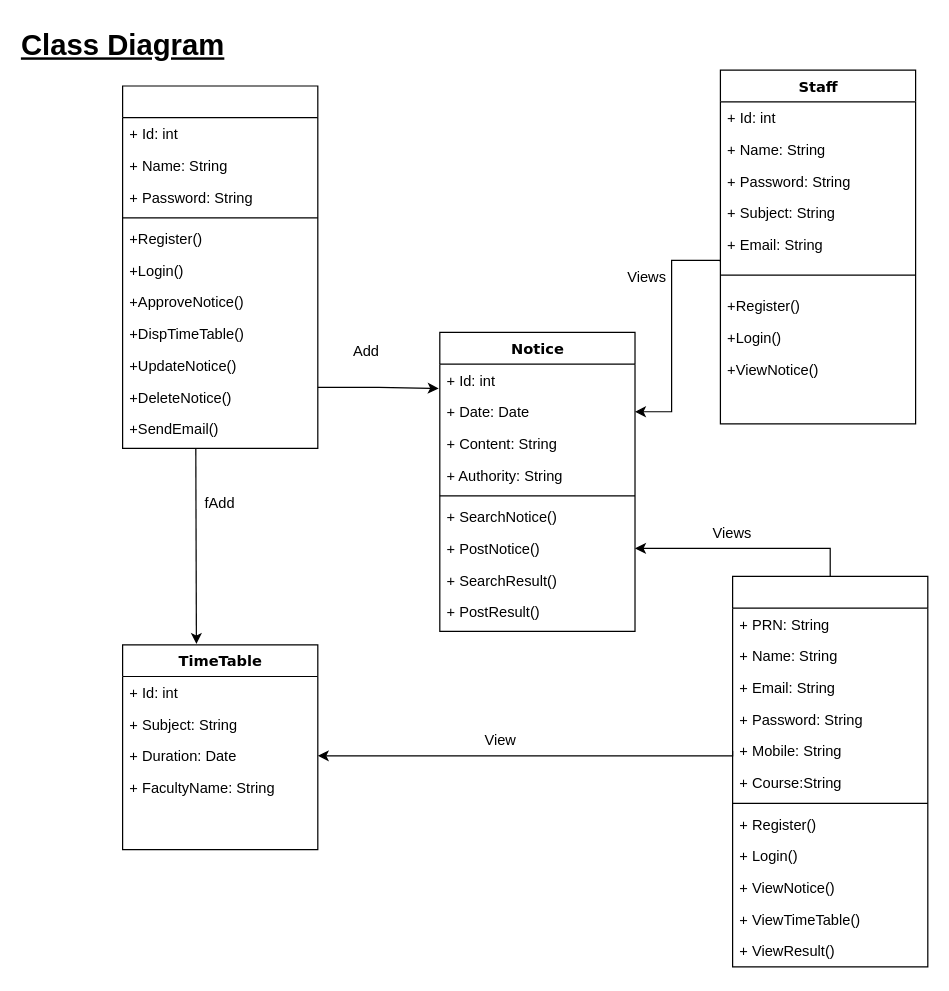
Image size: 949x991. Some labels were removed from this diagram. Here are the shapes that lost their labels. From the top down, the box of each, then its label:
(121, 85, 318, 448): Admin
(731, 575, 928, 967): Student
